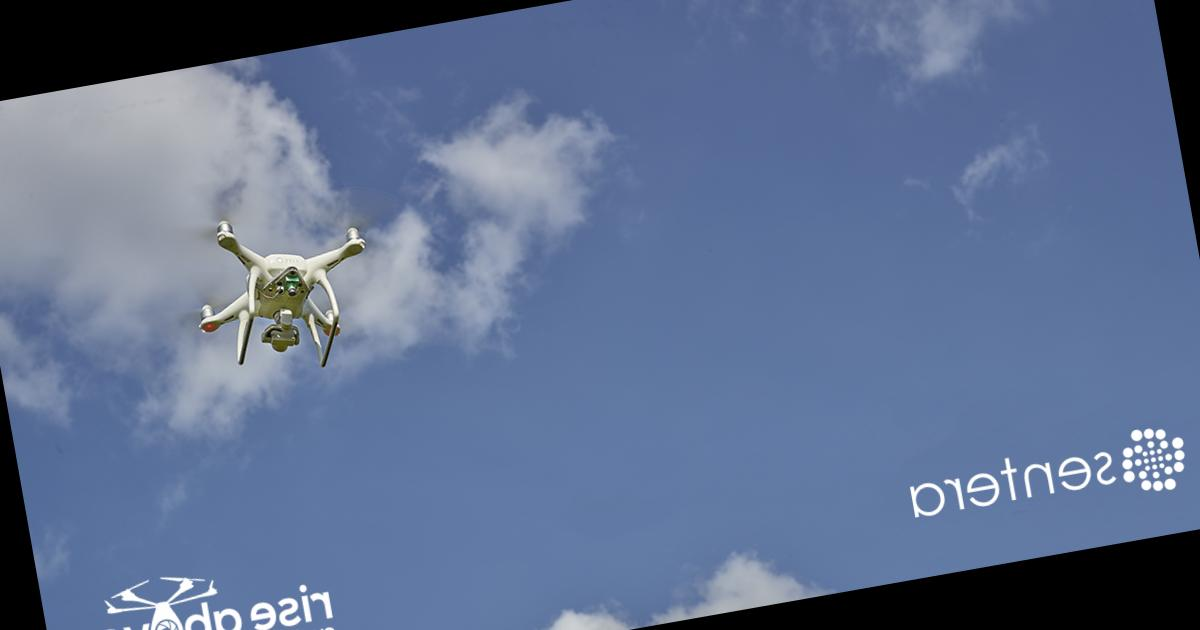drone: (164, 194, 392, 375)
